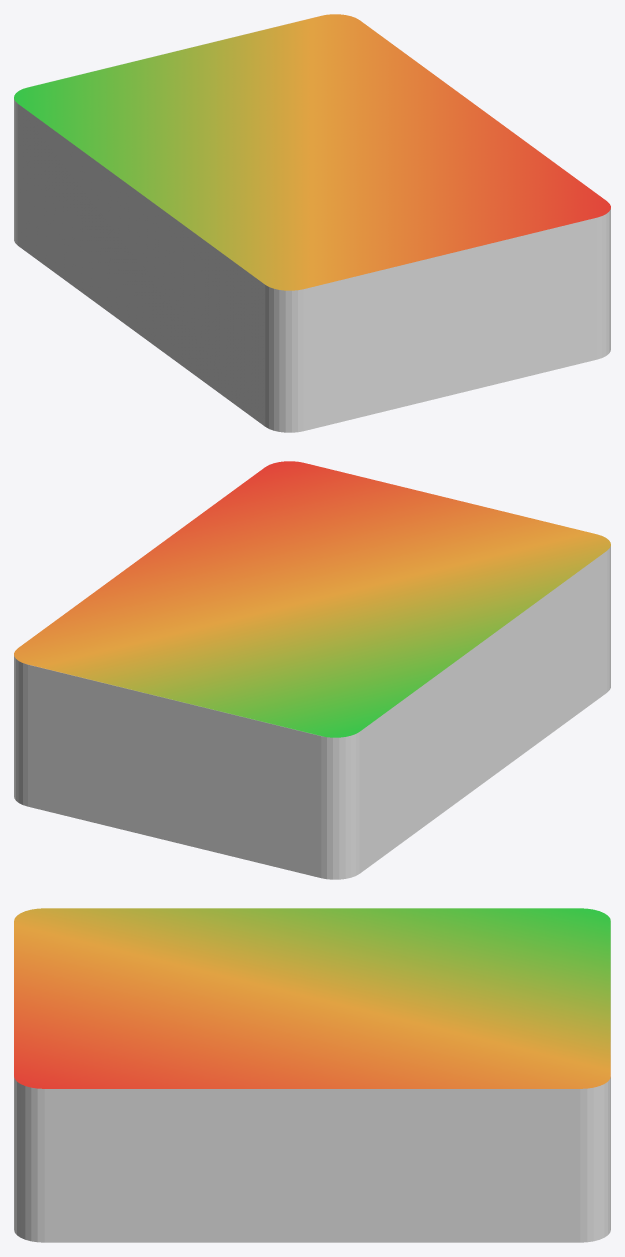
Rendered from deck.glb.
3 renders of one model, top to bottom at view 1: azimuth 30°, elevation 25°; view 2: azimuth 150°, elevation 25°; view 3: azimuth 270°, elevation 25°, orthographic. The views are drawn at different scales.
Visible parts, largest first — view 1: Cube; view 2: Cube; view 3: Cube.
Part boxes in pixels (x1,y1,x2,y2): Cube: (14, 14, 610, 432); Cube: (14, 461, 610, 879); Cube: (14, 908, 610, 1242).
Size of the model in its own units: 126 by 50 by 176.
Materials: 1 (1 with a texture image).
